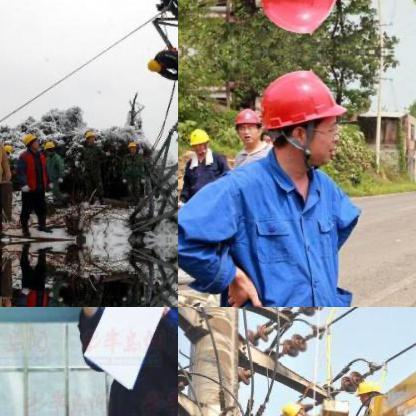Helmet: (260, 61, 348, 169), (259, 0, 349, 41), (230, 103, 264, 147), (355, 374, 383, 412), (188, 124, 210, 154), (279, 398, 306, 415), (19, 131, 39, 151), (146, 55, 166, 71), (42, 136, 54, 154), (84, 129, 96, 143), (126, 138, 136, 152)
